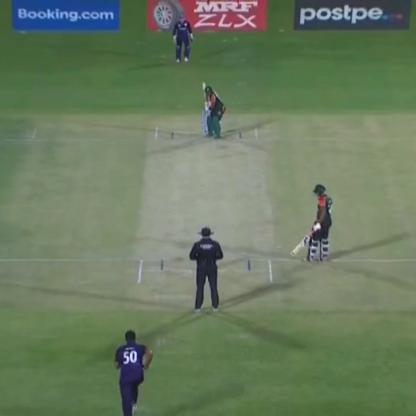bat: (285, 221, 317, 259), (197, 76, 216, 112)
pitch: (131, 110, 285, 297)
